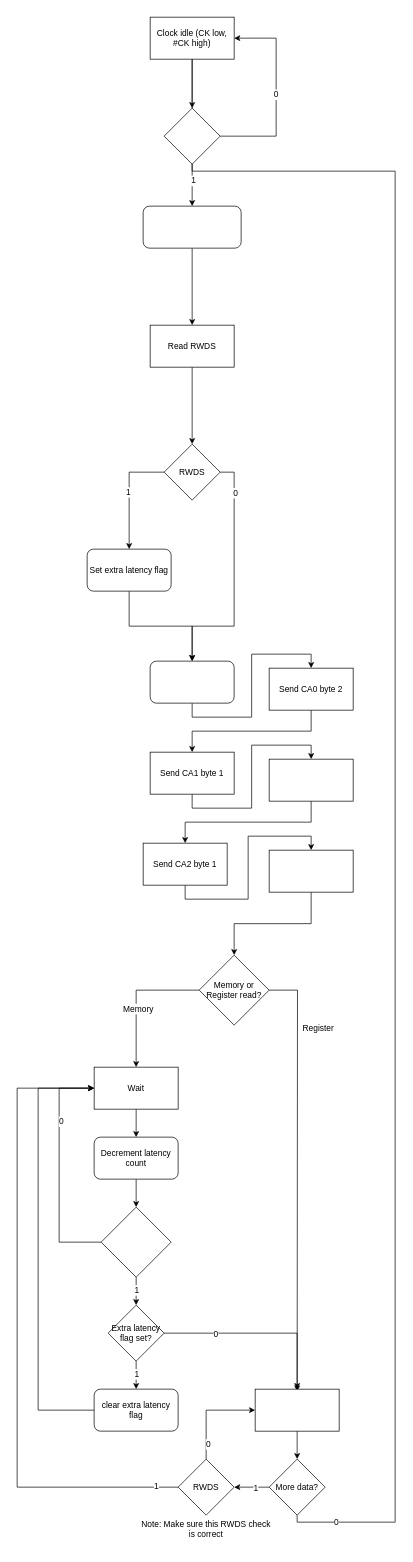
The diagram is 413 pixels wide and 1562 high, and some of its shapes have lost their labels. Here are the shapes that lost their labels. From the top down, the centre of each, then its label:
point 191,135: Read Request?
point 191,226: S1: Set CS# low
point 191,681: Send CA0 byte 1
point 310,779: Send CA1 byte 2
point 310,870: Send CA2 byte 2
point 135,1241: latency count == 0
point 296,1409: Capture byte on output
